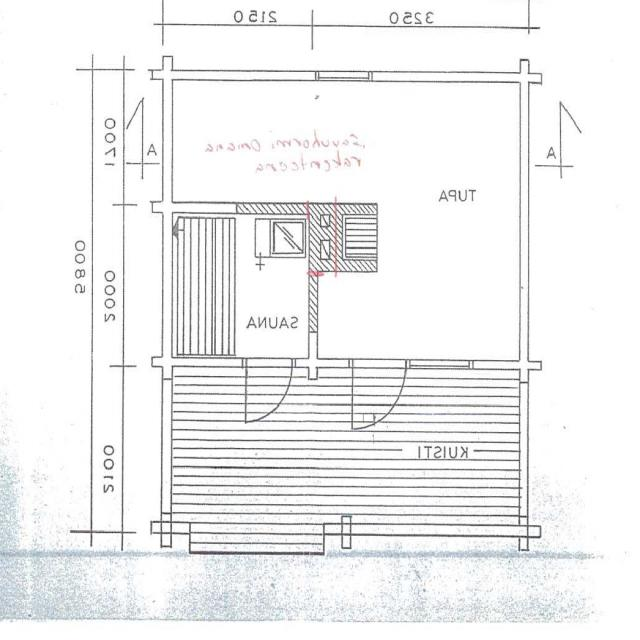door: (354, 358, 406, 430), (245, 358, 292, 424)
